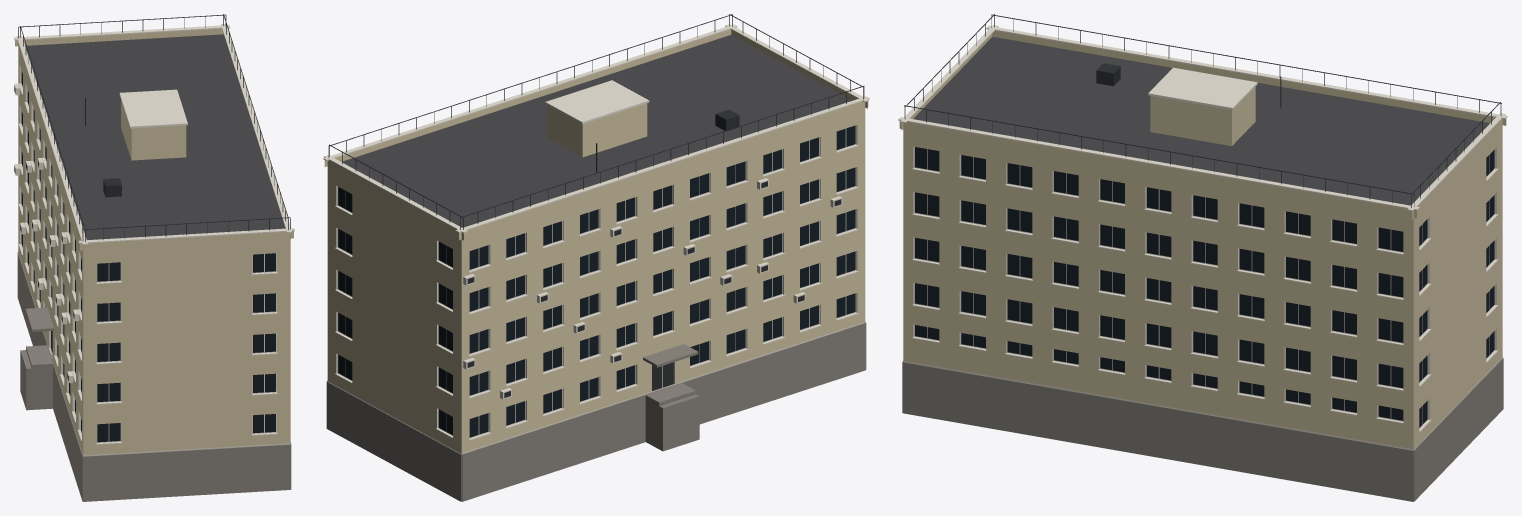
Rendered from sevgu_gogolya23.glb.
3 views of the same model, side by side, from view 1: azimuth 30°, elevation 25°; view 2: azimuth 150°, elevation 25°; view 3: azimuth 270°, elevation 25° (orthographic). The views are drawn at different scales.
Parts seen in each view (by area): view 1: sevgu_gogolya23_wall, sevgu_gogolya23_roof, sevgu_gogolya23_stone, sevgu_gogolya23_trim, sevgu_gogolya23_glass, sevgu_gogolya23_metal; view 2: sevgu_gogolya23_wall, sevgu_gogolya23_roof, sevgu_gogolya23_stone, sevgu_gogolya23_glass, sevgu_gogolya23_trim, sevgu_gogolya23_metal; view 3: sevgu_gogolya23_wall, sevgu_gogolya23_roof, sevgu_gogolya23_stone, sevgu_gogolya23_glass, sevgu_gogolya23_trim, sevgu_gogolya23_metal.
Part boxes in pixels (<box>): sevgu_gogolya23_wall: <box>15,28,293,456</box>; sevgu_gogolya23_roof: <box>25,34,285,239</box>; sevgu_gogolya23_stone: <box>17,252,291,501</box>; sevgu_gogolya23_trim: <box>14,24,294,456</box>; sevgu_gogolya23_glass: <box>21,71,275,442</box>; sevgu_gogolya23_metal: <box>14,14,290,380</box>; sevgu_gogolya23_wall: <box>324,29,868,454</box>; sevgu_gogolya23_roof: <box>343,35,851,227</box>; sevgu_gogolya23_stone: <box>326,322,866,501</box>; sevgu_gogolya23_glass: <box>338,125,855,437</box>; sevgu_gogolya23_trim: <box>323,24,869,453</box>; sevgu_gogolya23_metal: <box>328,14,864,397</box>; sevgu_gogolya23_wall: <box>899,30,1506,450</box>; sevgu_gogolya23_roof: <box>913,36,1489,205</box>; sevgu_gogolya23_stone: <box>902,358,1503,501</box>; sevgu_gogolya23_glass: <box>915,147,1494,427</box>; sevgu_gogolya23_trim: <box>898,25,1507,450</box>; sevgu_gogolya23_metal: <box>904,14,1501,207</box>.
Bounding box in the file's own units: 28.02 × 22.75 × 38.92.
